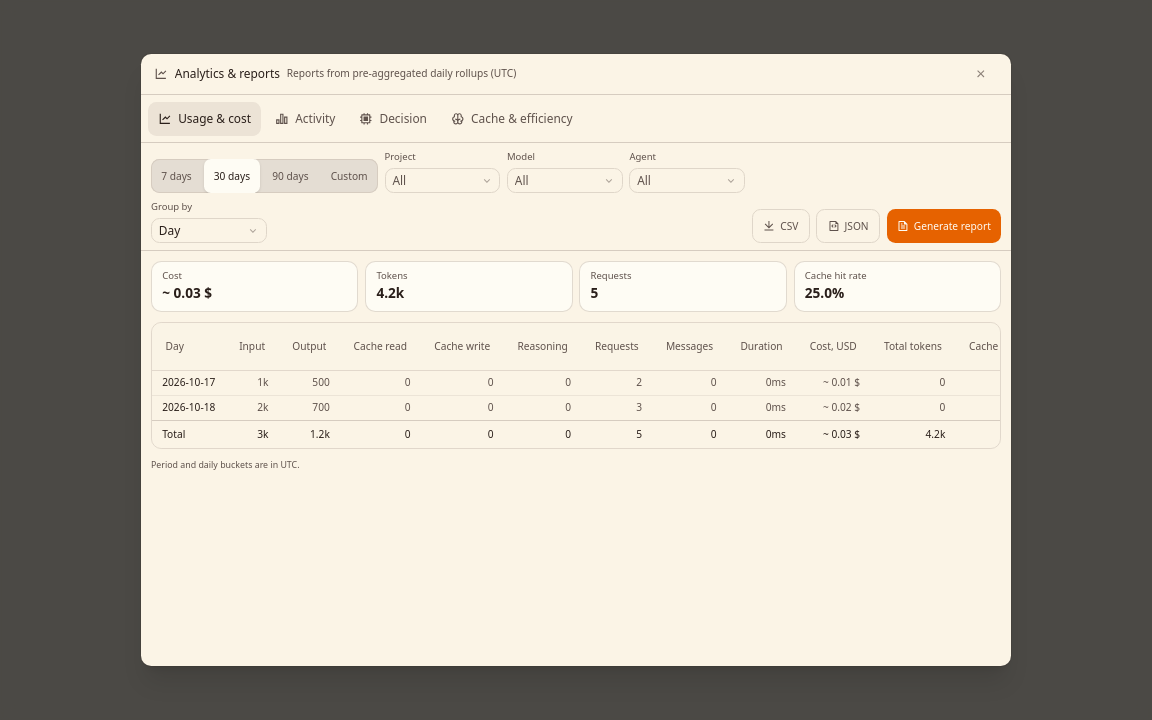
Test: AnalyticsModal (ADR-102, волна 2) › переключение на «Активность» грузит свой отчёт
Click the button "Activity".
click(305, 119)  # box x1=265 y1=102 x2=346 y2=136
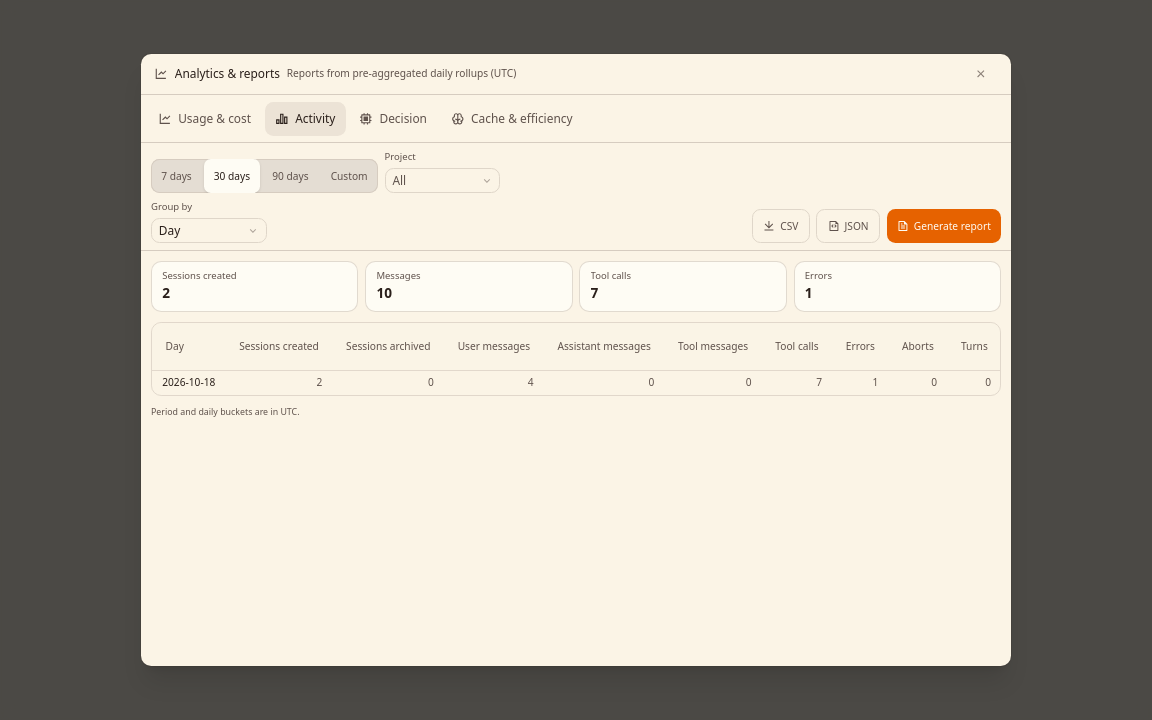
Check: the element with test id "analytics-table" is shown, box x1=151 y1=322 x2=1001 y2=396
Check: the element with test id "analytics-table" shows "Tool calls", box x1=772 y1=330 x2=822 y2=364
